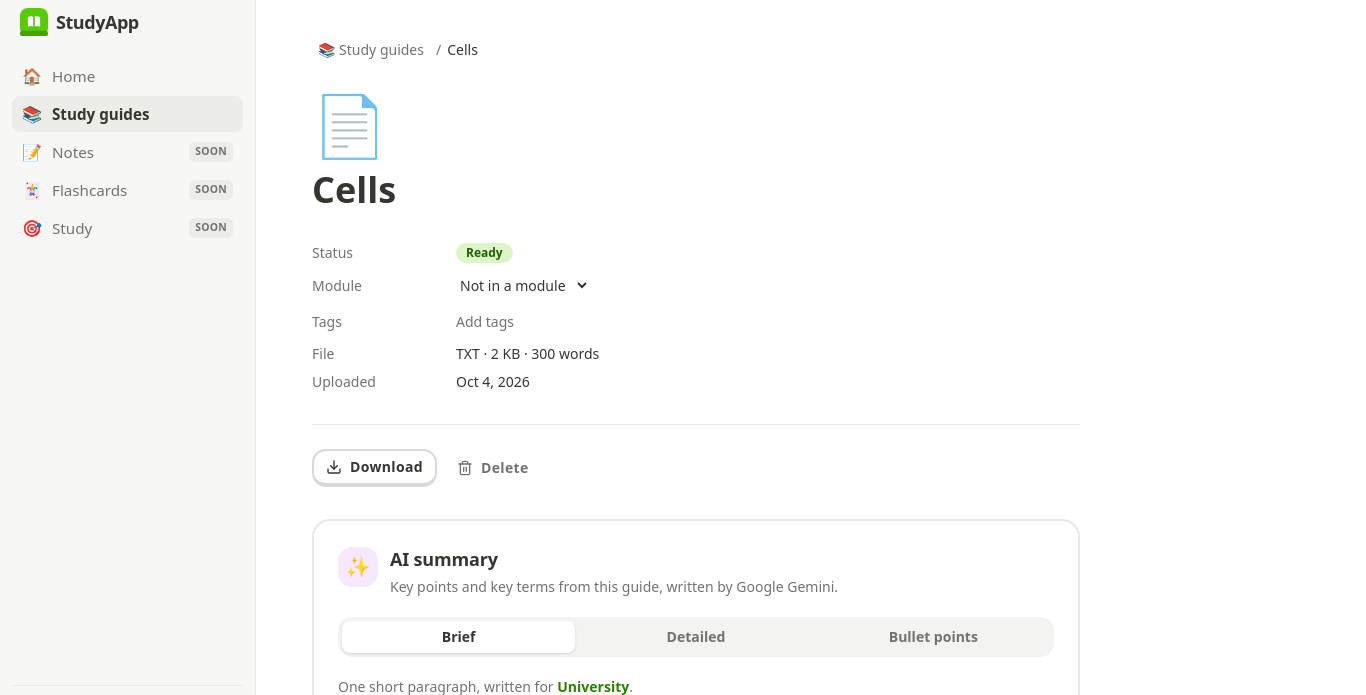
Scenario: AI summary card › asks for the chosen style and shows the finished summary
This screenshot has width=1366, height=695.
Click the tab "Bullet points". click: (933, 637)
box: x1=817 y1=621 x2=1050 y2=653
(page scrolled)
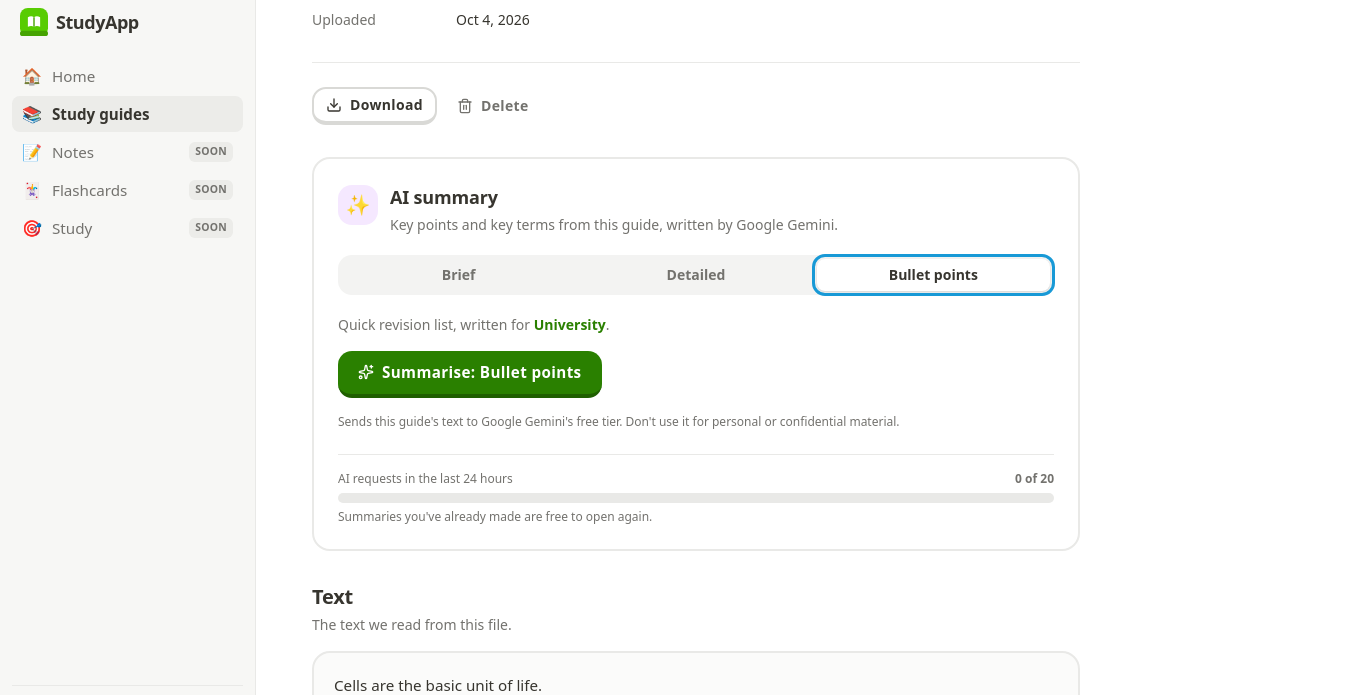
Click the button "Summarise: Bullet points". click: (470, 374)
box: x1=338 y1=351 x2=602 y2=398
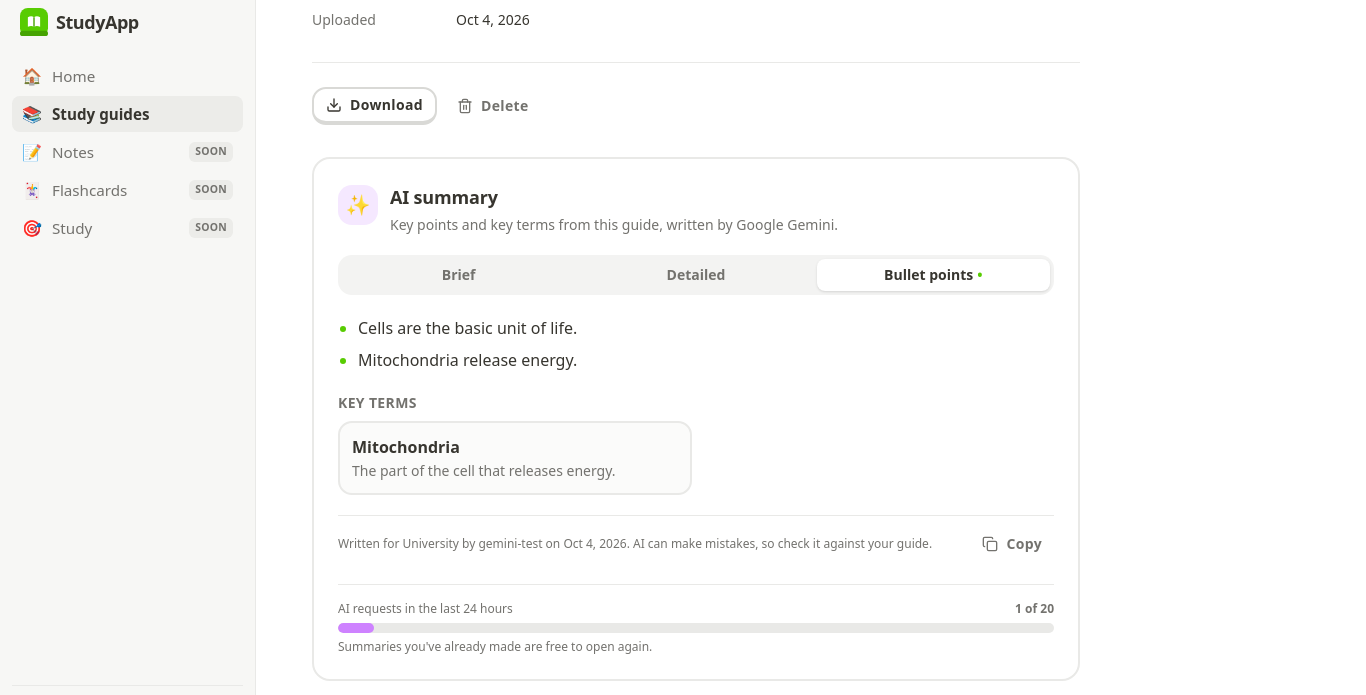
Expected: the list item "Mitochondria release energy." is shown, x1=358 y1=349 x2=577 y2=371
Expected: the text "Mitochondria" is shown, x1=352 y1=436 x2=460 y2=458
Expected: the text "1 of 20" is shown, x1=1015 y1=601 x2=1054 y2=617
